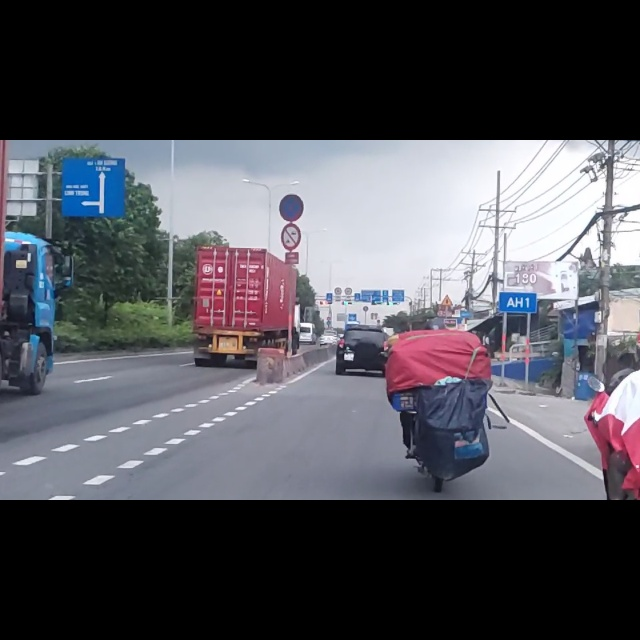bien_chi_dan: (278, 94, 304, 144), (279, 147, 302, 196)
